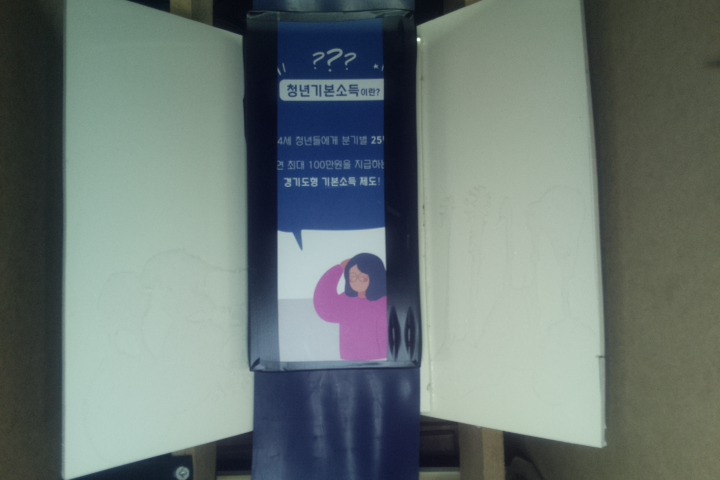book: (248, 9, 416, 372)
